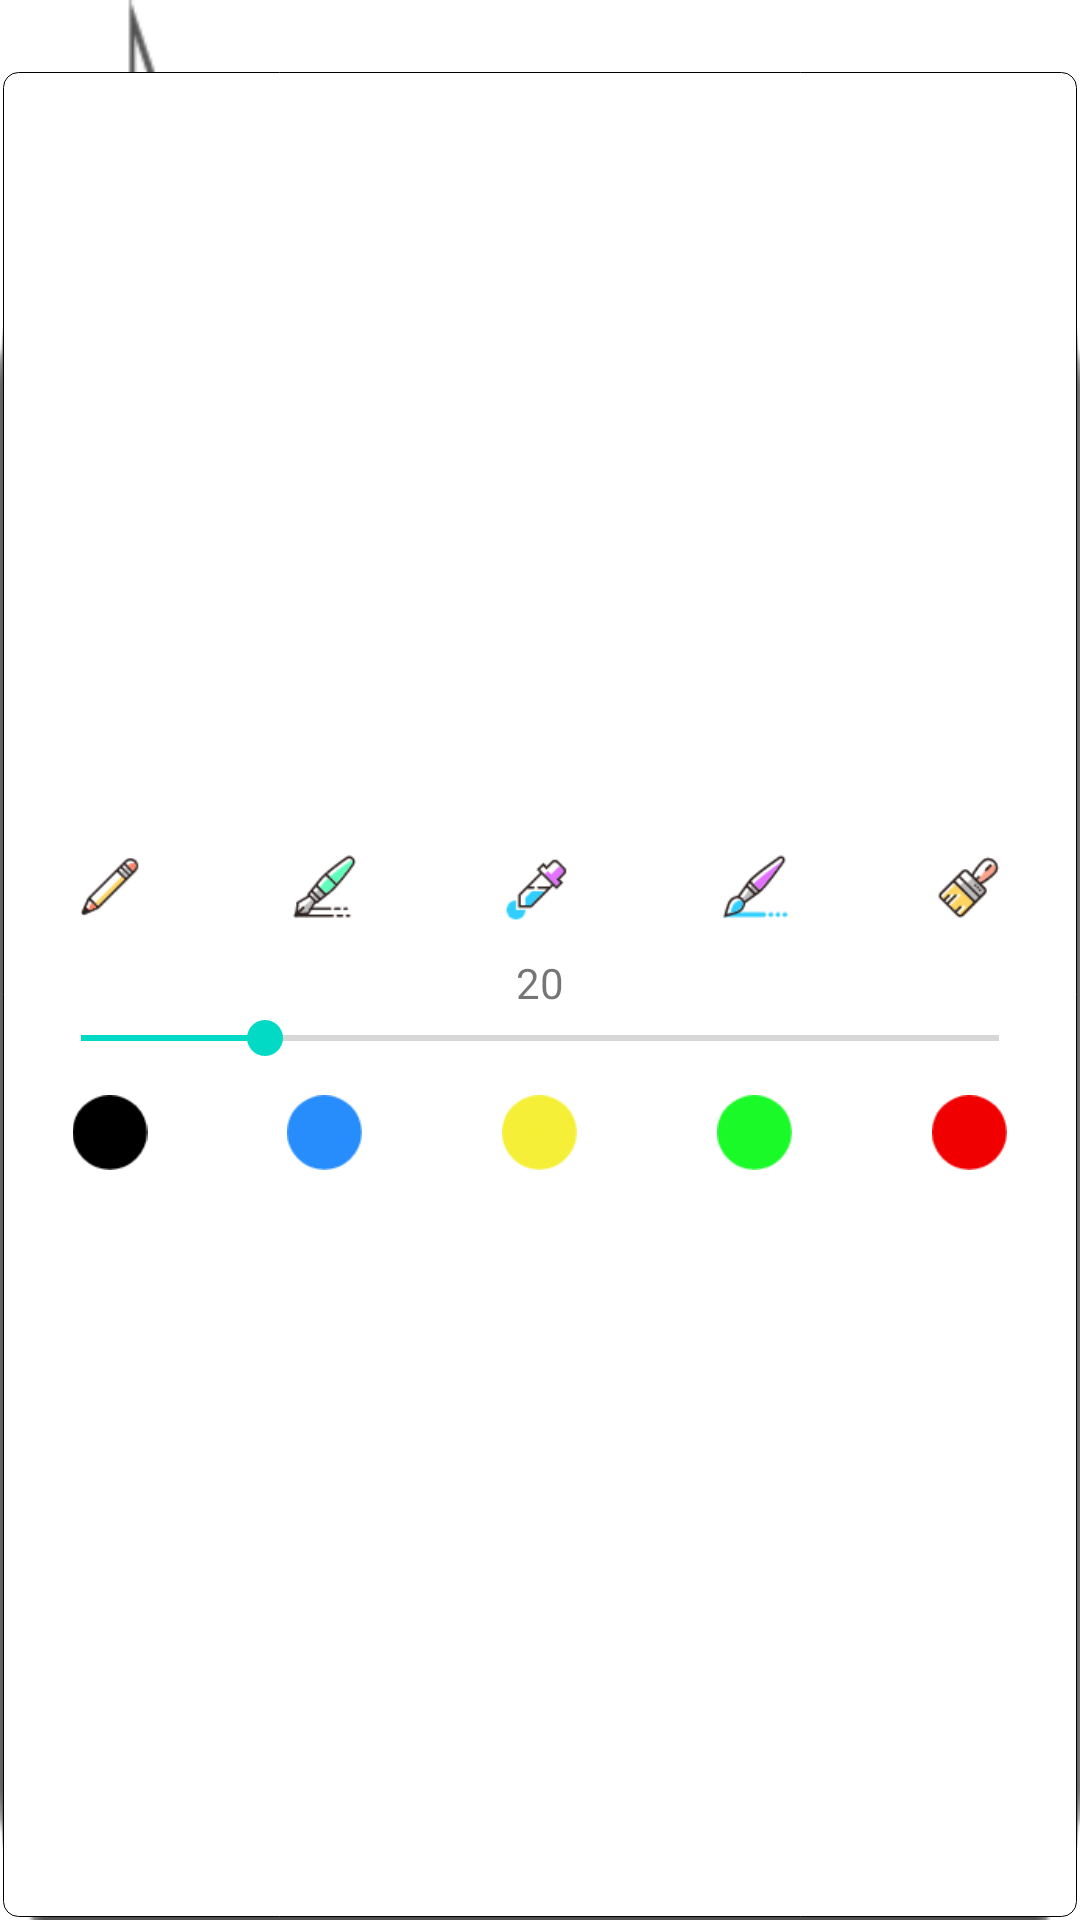

Named icons in this screenshot (1080x1920) and their centers, (x,y):
brush: (755,886)
brush wide: (968,887)
dropper: (536,889)
fountain pen: (324,886)
pencil: (110,887)
